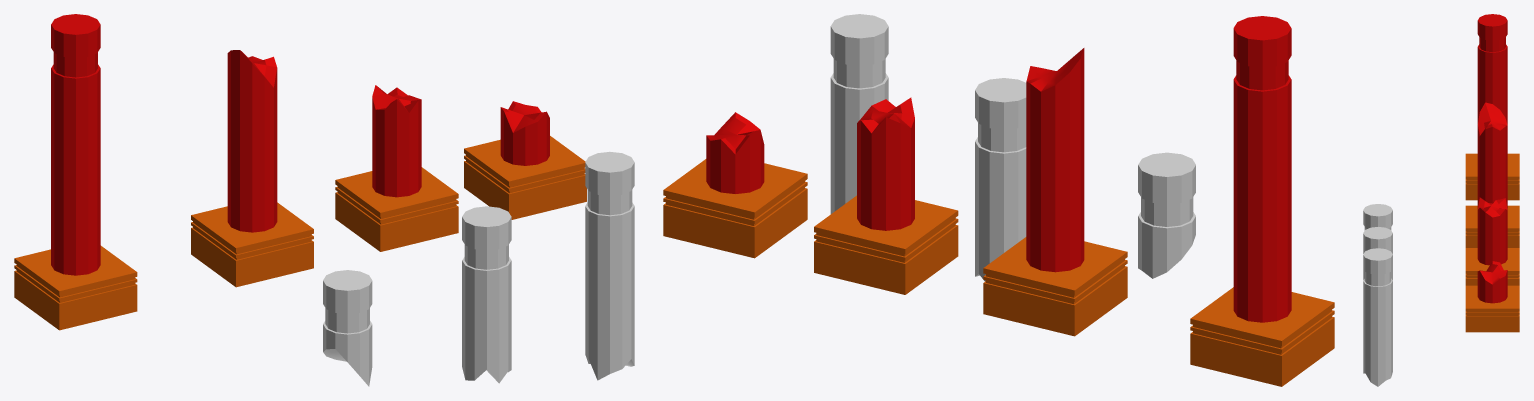
The model's file is Pillars_Set1.fbx.
The picture shows the model from 3 angles, left to right: view 1: azimuth 30°, elevation 25°; view 2: azimuth 150°, elevation 25°; view 3: azimuth 270°, elevation 25°; orthographic projection. The views are drawn at different scales.
Parts seen in each view (by area): view 1: Pillar_1, Pillar_2_1, Pillar_3_1, Pillar_4_2, Pillar_4_1, Pillar_3_2, Pillar_2_2; view 2: Pillar_1, Pillar_2_1, Pillar_3_1, Pillar_4_1, Pillar_3_2, Pillar_4_2, Pillar_2_2; view 3: Pillar_1, Pillar_2_1, Pillar_4_2, Pillar_4_1, Pillar_3_1, Pillar_2_2, Pillar_3_2.
Boxes of the visible parts, left/top/right/bottom form: Pillar_1: left=14, top=14, right=137, bottom=330; Pillar_2_1: left=191, top=50, right=313, bottom=287; Pillar_3_1: left=335, top=85, right=458, bottom=251; Pillar_4_2: left=585, top=151, right=634, bottom=380; Pillar_4_1: left=464, top=101, right=586, bottom=219; Pillar_3_2: left=462, top=206, right=511, bottom=383; Pillar_2_2: left=323, top=270, right=372, bottom=386; Pillar_1: left=1190, top=16, right=1334, bottom=386; Pillar_2_1: left=983, top=48, right=1127, bottom=336; Pillar_3_1: left=814, top=97, right=958, bottom=294; Pillar_4_1: left=663, top=112, right=807, bottom=258; Pillar_3_2: left=975, top=78, right=1026, bottom=281; Pillar_4_2: left=830, top=14, right=888, bottom=213; Pillar_2_2: left=1138, top=152, right=1195, bottom=278; Pillar_1: left=1465, top=14, right=1519, bottom=200; Pillar_2_1: left=1465, top=102, right=1519, bottom=247; Pillar_4_2: left=1363, top=248, right=1392, bottom=386; Pillar_4_1: left=1465, top=261, right=1519, bottom=332; Pillar_3_1: left=1465, top=197, right=1519, bottom=285; Pillar_2_2: left=1363, top=204, right=1392, bottom=253; Pillar_3_2: left=1363, top=227, right=1392, bottom=280.
Size of the model in its own units: 24.64 by 17.18 by 10.53.
